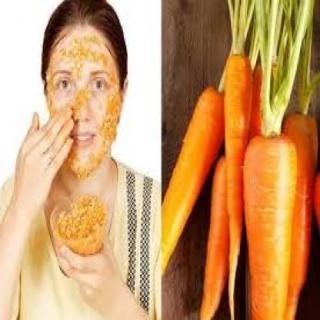Wortel: (161, 74, 232, 280), (245, 96, 297, 320)
